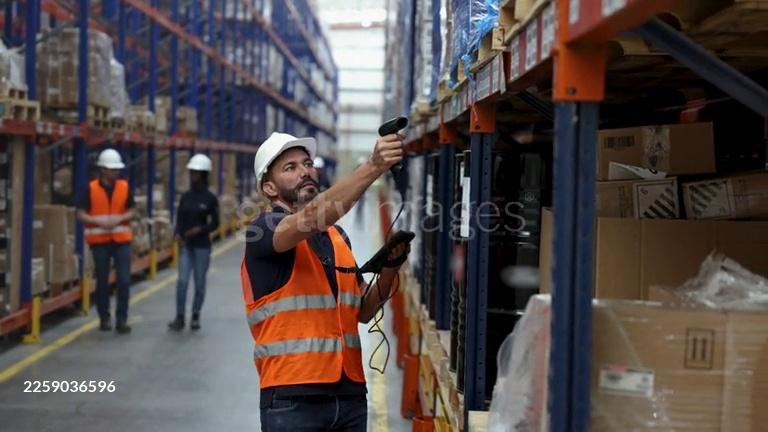helmet: (254, 132, 317, 184), (96, 149, 127, 170), (187, 153, 212, 171)
person: (236, 131, 411, 432), (75, 147, 138, 335), (166, 153, 223, 331)
